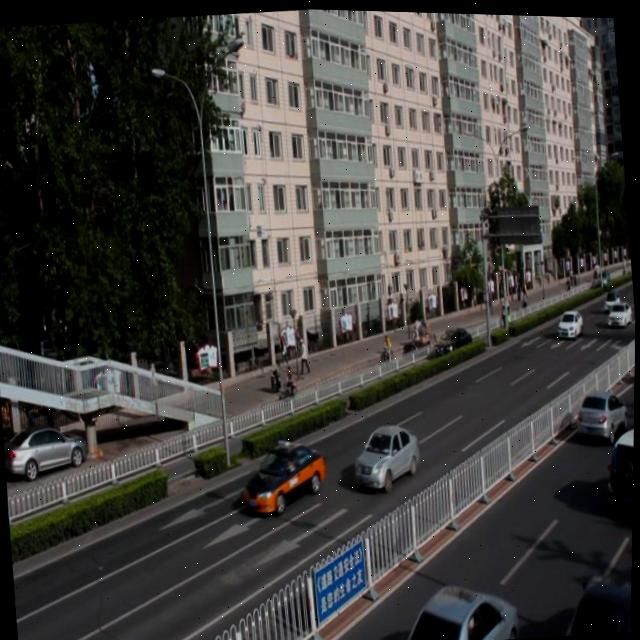car: (394, 571, 519, 640), (237, 433, 329, 515), (555, 560, 634, 634), (350, 416, 423, 490), (574, 380, 629, 439), (602, 421, 635, 517), (434, 320, 471, 353)
